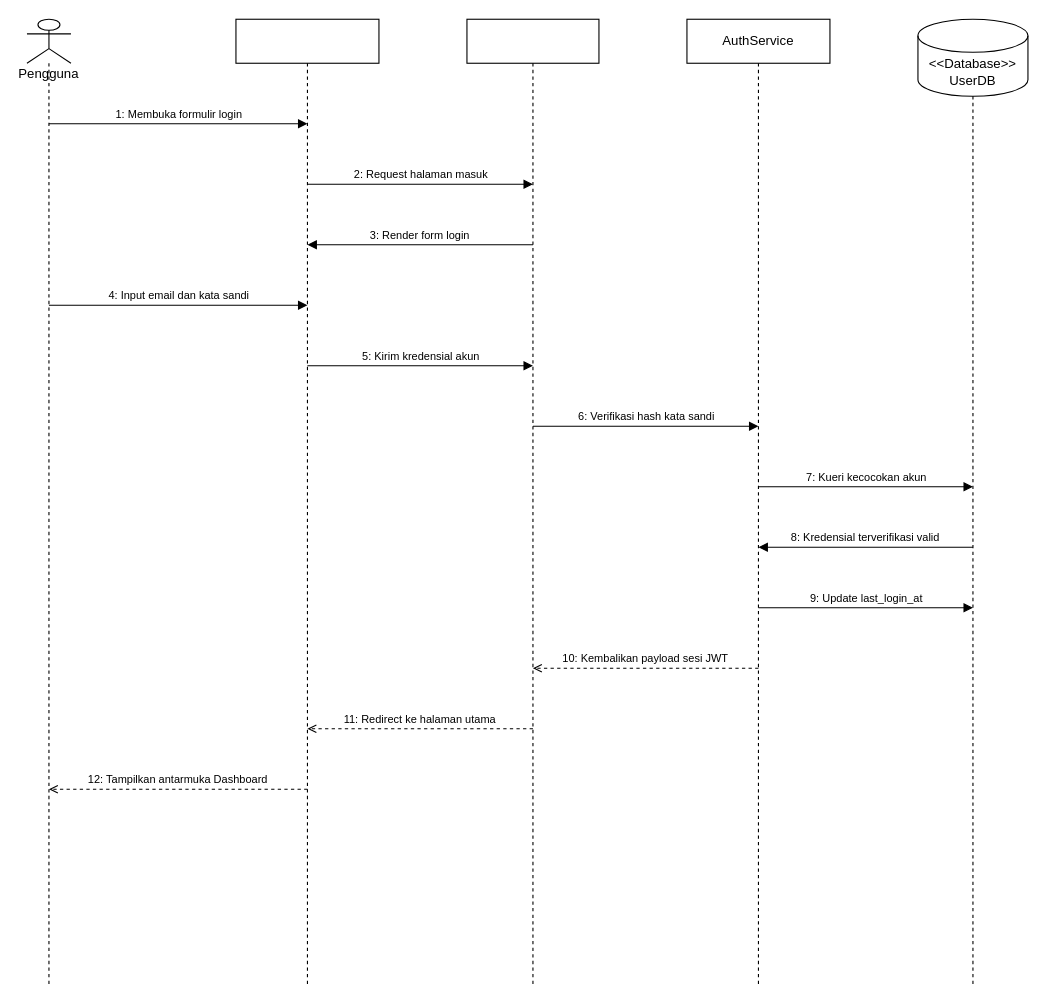
The diagram is 1047 pixels wide and 1008 high, and some of its shapes have lost their labels. The shapes that lost their labels are listed below. From the top down, each one's box as (x1, y1, x2, y2) in pixels, then its label:
(235, 18, 379, 987): Tampilan Form Login
(466, 18, 599, 987): AuthController
